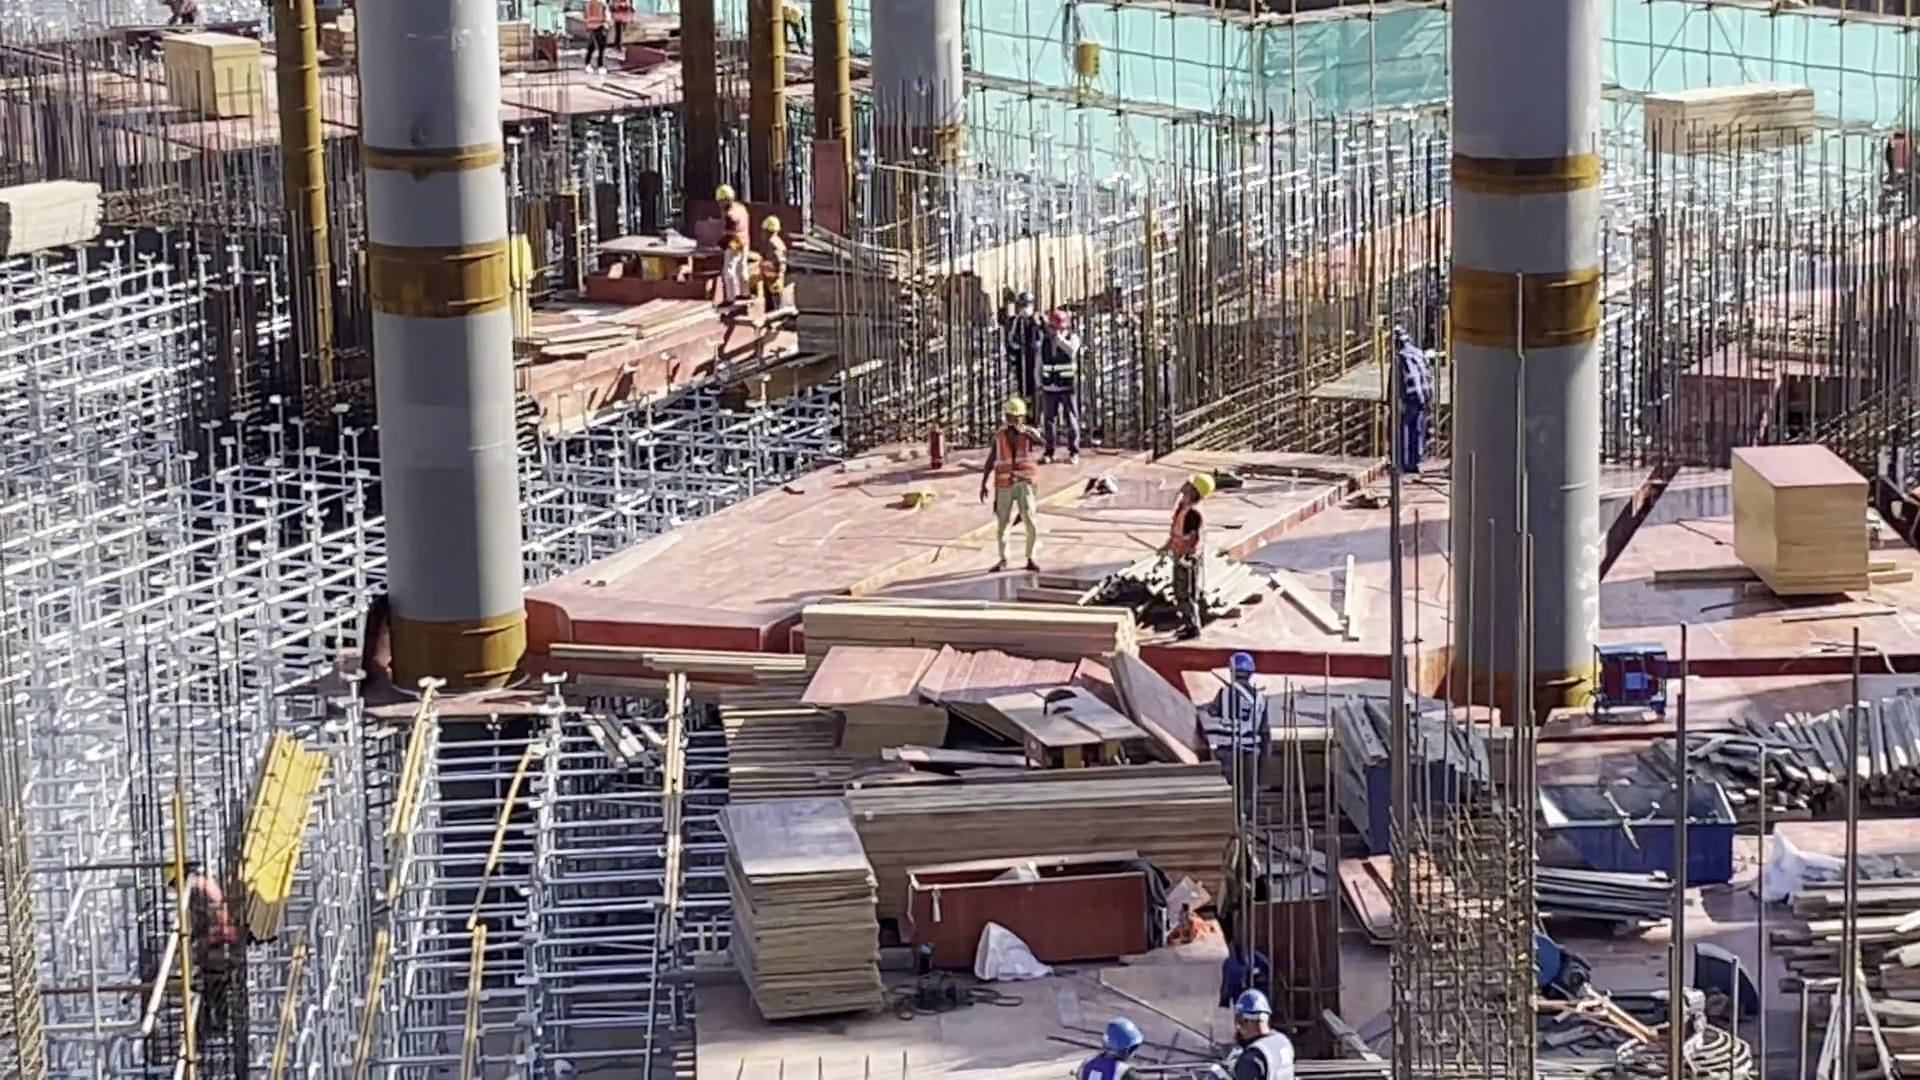helmet: (1089, 1011, 1140, 1056), (1234, 980, 1267, 1015), (1227, 645, 1257, 675), (1047, 310, 1077, 336), (1386, 325, 1411, 354), (1182, 476, 1208, 503), (1000, 400, 1027, 425), (1016, 291, 1040, 318), (709, 185, 735, 211), (761, 215, 784, 237)
person: (975, 397, 1038, 577), (1155, 465, 1216, 628), (1210, 647, 1267, 817), (1215, 986, 1303, 1080), (1385, 324, 1438, 473), (1035, 308, 1082, 468), (710, 236, 753, 337), (712, 188, 748, 302), (758, 209, 788, 331), (588, 1, 606, 68)
vest: (980, 433, 1036, 497), (1403, 359, 1448, 422), (1164, 513, 1211, 562), (1040, 338, 1065, 395), (722, 208, 745, 233)
